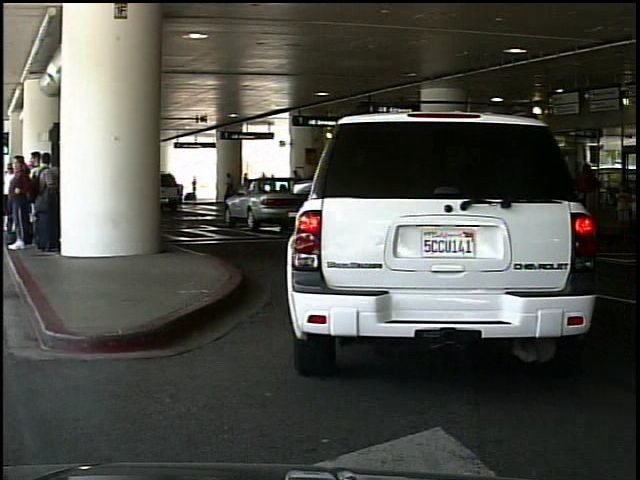person: (225, 171, 237, 199), (192, 176, 199, 203)
